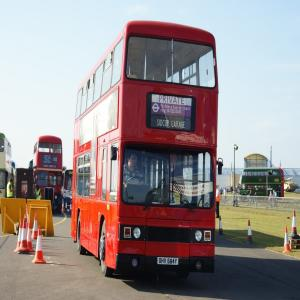Vehicle-registration-plate: (157, 258, 179, 267)
